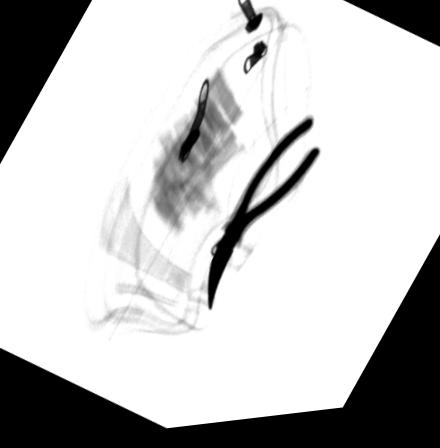Pliers: (205, 120, 321, 318)
